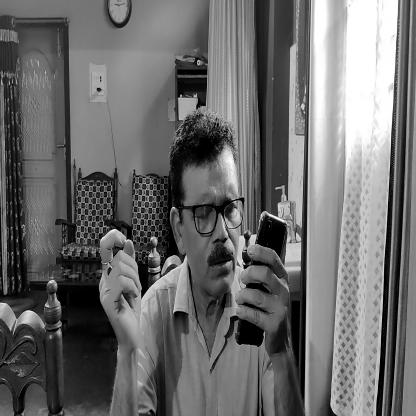Distracted: (164, 112, 244, 314)
